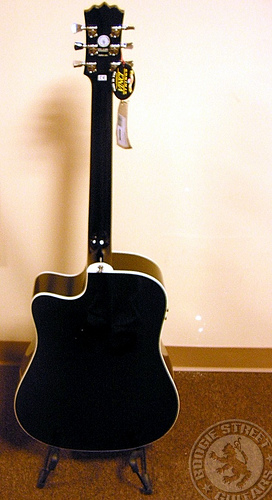guitar: (8, 1, 181, 454)
